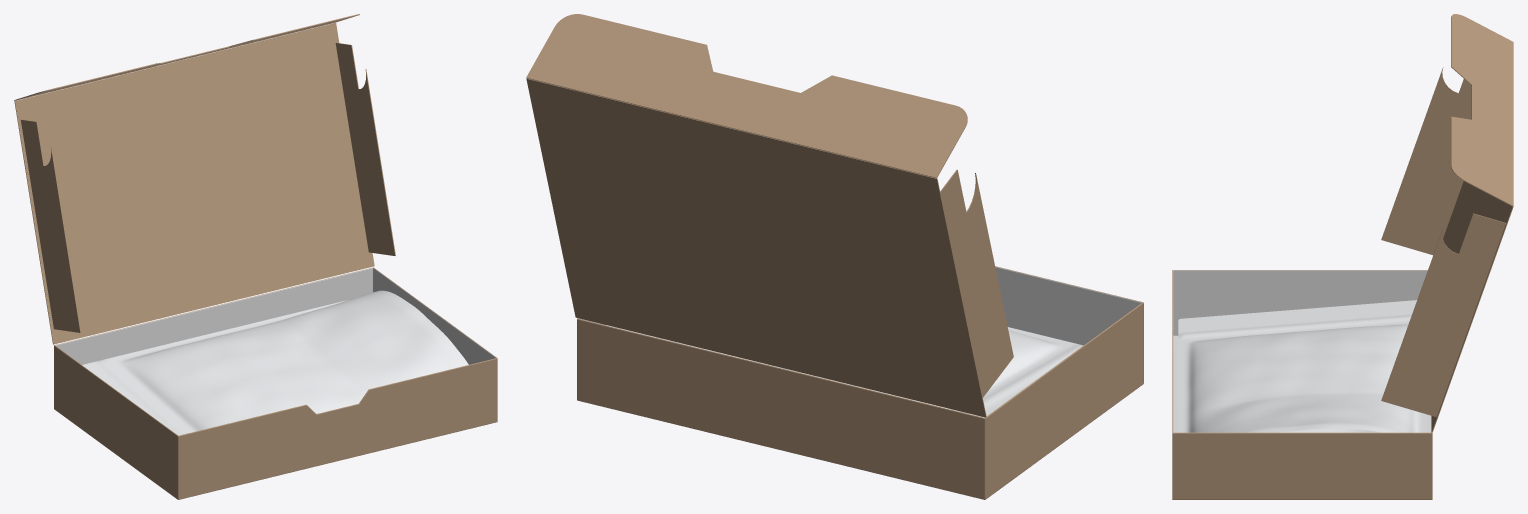
The model's file is flower-box-downsized-premium-open.glb.
3 views of the same model, side by side, from view 1: azimuth 30°, elevation 25°; view 2: azimuth 150°, elevation 25°; view 3: azimuth 270°, elevation 25° (orthographic). The views are drawn at different scales.
Parts seen in each view (by area): view 1: dgift_lid, dgift_tray, dgp, dgift_ear-1, dgift_ear1, dgift_front; view 2: dgift_lid, dgift_tray, dgift_front, dgift_ear-1, dgp; view 3: dgift_tray, dgp, dgift_ear1, dgift_front, dgift_ear-1, dgift_lid.
Part boxes in pixels (x1,y1,x2,y2): dgift_lid: (14,23,374,344); dgift_tray: (54,267,497,499); dgp: (82,290,468,435); dgift_ear-1: (21,119,80,332); dgift_ear1: (335,43,395,255); dgift_front: (14,14,359,100); dgift_lid: (526,78,986,417); dgift_tray: (577,266,1143,499); dgift_front: (526,14,967,178); dgift_ear-1: (936,169,1013,402); dgp: (606,325,1083,417); dgift_tray: (1172,270,1432,499); dgp: (1178,300,1426,432); dgift_ear1: (1381,213,1506,416); dgift_front: (1451,14,1513,206); dgift_ear-1: (1381,67,1471,254); dgift_lid: (1432,181,1513,432).
Bounding box in the file's own units: 0.1969 × 0.184 × 0.1731.
